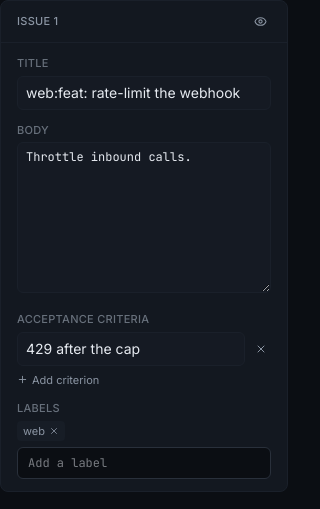
Test: DraftIssueCard › swaps the body editor for a rendered preview and back
Expected: the text box named "Body" is shown, [17, 142, 271, 293]
Click the button named "Preview" at (260, 22), box [250, 11, 271, 32]
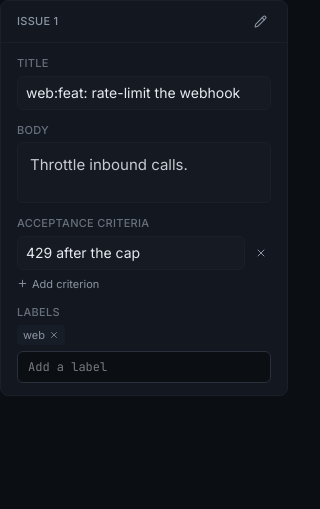
Expected: the text "Throttle inbound calls." is shown, [30, 155, 188, 174]
Click the button named "Edit" at (260, 22), box [250, 11, 271, 32]
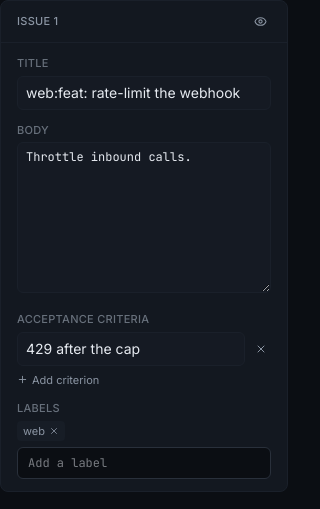
Expected: the text box named "Body" is shown, [17, 142, 271, 293]
